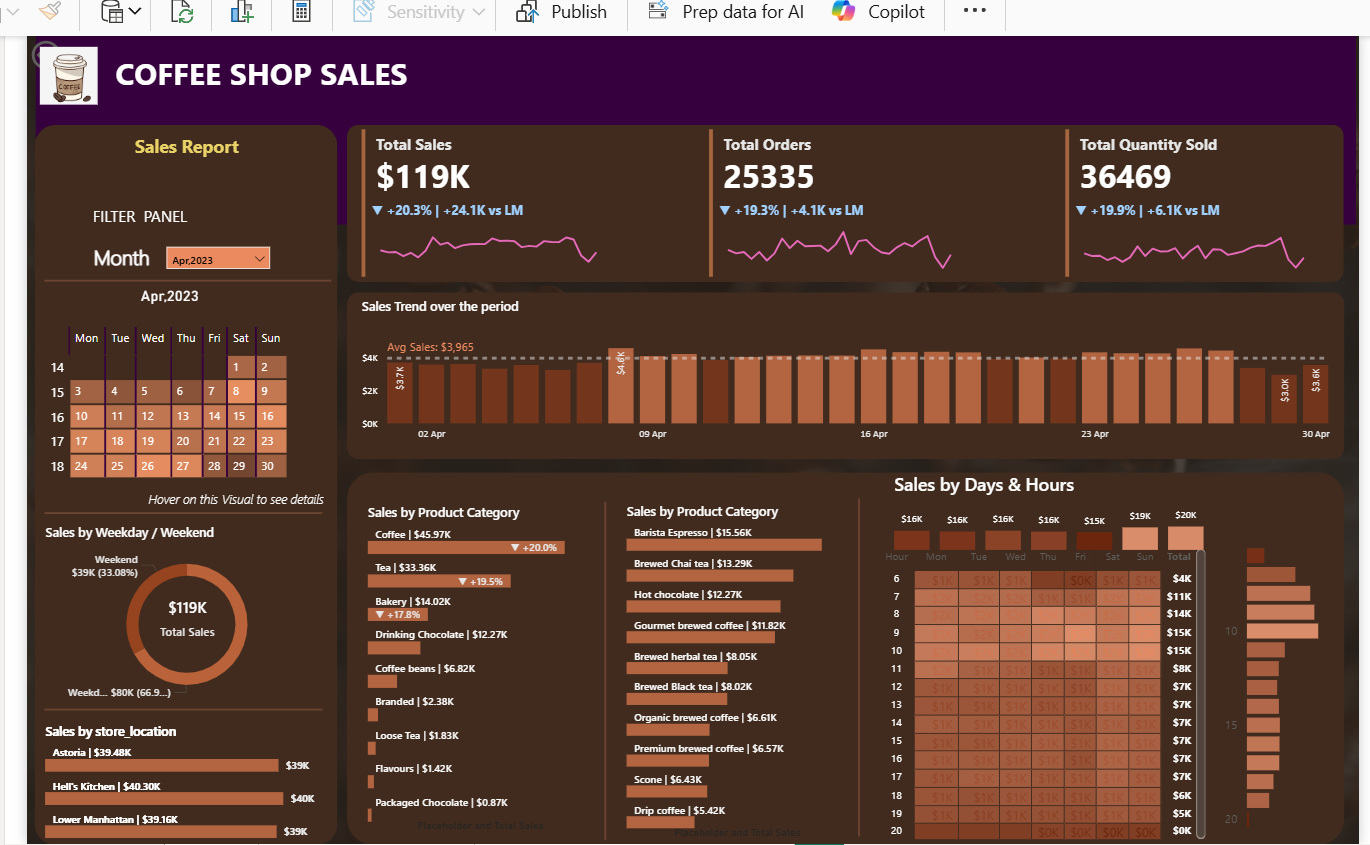

The page's visual inventory and layout, read from the dashboard file:
{"tool":"powerbi","page":{"name":"Page 1","canvas":[1400,850],"ordinal":0},"visuals":[{"type":"shape","box":[8.6,0,1388,198.3],"z":0},{"type":"cardVisual","fields":{"Data":["Transactions.Total Sales"]},"box":[346.7,93.3,266.7,165.3],"z":0,"group":"g1"},{"type":"cardVisual","fields":{"Data":["Transactions.Total Orders"]},"box":[712,93.3,274.4,165.3],"z":0,"group":"g2"},{"type":"cardVisual","fields":{"Data":["Transactions.Total Quantity Sold"]},"box":[1086.7,93.3,270.7,165.3],"z":0,"group":"g3"},{"type":"shape","box":[8,93.3,318.7,757.3],"z":1000},{"type":"lineChart","fields":{"Category":["Date Table.Date.Variation.Date Hierarchy.Year","Date Table.Date.Variation.Date Hierarchy.Quarter","Date Table.Date.Variation.Date Hierarchy.Month","Date Table.Date.Variation.Date Hierarchy.Day"],"Y":["Transactions.Total Sales"]},"box":[357.5,173.3,255.9,85.3],"z":1000,"group":"g1"},{"type":"lineChart","fields":{"Category":["Date Table.Date.Variation.Date Hierarchy.Year","Date Table.Date.Variation.Date Hierarchy.Quarter","Date Table.Date.Variation.Date Hierarchy.Month","Date Table.Date.Variation.Date Hierarchy.Day"],"Y":["Transactions.Total Orders"]},"box":[723.1,173.3,263.3,85.3],"z":1000,"group":"g2"},{"type":"lineChart","fields":{"Category":["Date Table.Date.Variation.Date Hierarchy.Year","Date Table.Date.Variation.Date Hierarchy.Quarter","Date Table.Date.Variation.Date Hierarchy.Month","Date Table.Date.Variation.Date Hierarchy.Day"],"Y":["Transactions.Total Quantity Sold"]},"box":[1097.7,173.3,259.7,85.3],"z":1000,"group":"g3"},{"type":"shape","box":[336,93.3,1048,165.3],"z":2000},{"type":"textbox","box":[87.8,12.2,345.9,58.1],"z":3000},{"type":"slicer","fields":{"Values":["Date Table.Month Year"]},"box":[141.9,216.2,118.9,33.8],"z":4000},{"type":"actionButton","box":[0,0,100,40],"z":5000},{"type":"group","id":"g1","title":"Group 1","box":[346.7,93.3,266.7,165.3],"z":6000},{"type":"group","id":"g2","title":"Group 1","box":[712,93.3,276,165.3],"z":7000},{"type":"group","id":"g3","title":"Group 1","box":[1086.7,93.3,270.7,165.3],"z":8000},{"type":"pivotTable","fields":{"Rows":["Date Table.Week Number"],"Columns":["Date Table.Day Name"],"Values":["Min(Date Table.Day Number)"]},"box":[14.2,300.5,306.2,189.4],"z":9000},{"type":"card","fields":{"Values":["Min(Date Table.Month Year)"]},"box":[99.7,259.2,101.1,31.3],"z":10000},{"type":"card","fields":{"Values":["Transactions.Foot Note"]},"box":[119.6,467.2,200.8,45.6],"z":11000},{"type":"shape","box":[336.5,458.1,1048.6,391.9],"z":11500},{"type":"shape","box":[18.5,489.9,292,22.8],"z":12000},{"type":"shape","box":[601.4,490.5,12.2,355.4],"z":13000},{"type":"donutChart","title":"Sales by Weekday / Weekend","fields":{"Category":["Date Table.Week Day / Weekend"],"Y":["Transactions.Total Sales"]},"box":[14.3,513,307.8,194.8],"z":14000},{"type":"card","fields":{"Values":["Transactions.Total Sales"]},"box":[110.4,581.8,116.9,57.1],"z":15000},{"type":"shape","box":[18.2,696.1,292.2,23.4],"z":16000},{"type":"clusteredBarChart","title":"Sales by store_location","fields":{"Category":["Transactions.store_location"],"Y":["Transactions.Placeholder","Transactions.Total Sales"]},"box":[14.3,722.1,294.8,128.6],"z":17000},{"type":"shape","box":[336.5,268.9,1048.6,175.7],"z":18000},{"type":"columnChart","title":"Sales Trend over the period","fields":{"Category":["Transactions.transaction_date"],"Y":["Transactions.Total Sales"]},"box":[347.3,274.3,1028.4,160.8],"z":19000},{"type":"clusteredBarChart","title":"Sales by store_location","fields":{"Category":["Transactions.store_location"],"Y":["Transactions.Placeholder","Transactions.Total Sales"]},"box":[14.3,721.4,294.8,128.6],"z":20000},{"type":"clusteredBarChart","title":"Sales by Product Category","fields":{"Y":["Transactions.Placeholder","Transactions.Total Sales"],"Category":["Transactions.product_category"]},"box":[354.1,491.9,247.3,350],"z":22000},{"type":"shape","box":[18.9,245.9,301.4,23],"z":22001},{"type":"clusteredBarChart","title":"Sales by Product Category","fields":{"Y":["Transactions.Placeholder","Transactions.Total Sales"],"Category":["Transactions.product_type"]},"box":[625.7,490.5,243.2,358.1],"z":22002},{"type":"shape","box":[868.9,486.5,12.2,355.4],"z":22003},{"type":"pivotTable","fields":{"Rows":["Transactions.Hour"],"Columns":["Date Table.Day Name"],"Values":["Transactions.Total Sales"]},"box":[890.5,535.1,352.7,314.9],"z":22004},{"type":"barChart","fields":{"Category":["Transactions.Hour"],"Y":["Transactions.Total Sales"]},"box":[1254.1,525.7,131.1,318.9],"z":22005},{"type":"columnChart","title":"Sales by Days & Hours","fields":{"Y":["Transactions.Total Sales"],"Category":["Date Table.Day Name"]},"box":[906.8,458.1,336.5,87.8],"z":22006},{"type":"textbox","box":[37.8,213.5,123,40.5],"z":22007},{"type":"textbox","box":[79.7,98.6,170.3,39.2],"z":22008},{"type":"textbox","box":[50,173,137.8,40.5],"z":22009},{"type":"image","box":[8.1,6.8,71.6,70.3],"z":22010}]}

Visuals, with their boxes on the page's 1400x850 design canvas (x1, y1, x2, y2). These are canvas units, not pixel positions in the 1370x845 screenshot, which may show the page scaled, cropped or inside an application window:
shape: (left=9, top=0, right=1397, bottom=198)
cardVisual - Transactions.Total Sales: (left=347, top=93, right=613, bottom=259)
cardVisual - Transactions.Total Orders: (left=712, top=93, right=986, bottom=259)
cardVisual - Transactions.Total Quantity Sold: (left=1087, top=93, right=1357, bottom=259)
shape: (left=8, top=93, right=327, bottom=851)
lineChart - Date Table.Date.Variation.Date Hierarchy.Year x Date Table.Date.Variation.Date Hierarchy.Quarter: (left=358, top=173, right=613, bottom=259)
lineChart - Date Table.Date.Variation.Date Hierarchy.Year x Date Table.Date.Variation.Date Hierarchy.Quarter: (left=723, top=173, right=986, bottom=259)
lineChart - Date Table.Date.Variation.Date Hierarchy.Year x Date Table.Date.Variation.Date Hierarchy.Quarter: (left=1098, top=173, right=1357, bottom=259)
shape: (left=336, top=93, right=1384, bottom=259)
textbox: (left=88, top=12, right=434, bottom=70)
slicer - Date Table.Month Year: (left=142, top=216, right=261, bottom=250)
actionButton: (left=0, top=0, right=100, bottom=40)
"Group 1" group: (left=347, top=93, right=613, bottom=259)
"Group 1" group: (left=712, top=93, right=988, bottom=259)
"Group 1" group: (left=1087, top=93, right=1357, bottom=259)
pivotTable - Date Table.Week Number x Date Table.Day Name: (left=14, top=300, right=320, bottom=490)
card - Min(Date Table.Month Year): (left=100, top=259, right=201, bottom=290)
card - Transactions.Foot Note: (left=120, top=467, right=320, bottom=513)
shape: (left=336, top=458, right=1385, bottom=850)
shape: (left=18, top=490, right=310, bottom=513)
shape: (left=601, top=490, right=614, bottom=846)
"Sales by Weekday / Weekend" donutChart: (left=14, top=513, right=322, bottom=708)
card - Transactions.Total Sales: (left=110, top=582, right=227, bottom=639)
shape: (left=18, top=696, right=310, bottom=720)
"Sales by store_location" clusteredBarChart: (left=14, top=722, right=309, bottom=851)
shape: (left=336, top=269, right=1385, bottom=445)
"Sales Trend over the period" columnChart: (left=347, top=274, right=1376, bottom=435)
"Sales by store_location" clusteredBarChart: (left=14, top=721, right=309, bottom=850)
"Sales by Product Category" clusteredBarChart: (left=354, top=492, right=601, bottom=842)
shape: (left=19, top=246, right=320, bottom=269)
"Sales by Product Category" clusteredBarChart: (left=626, top=490, right=869, bottom=849)
shape: (left=869, top=486, right=881, bottom=842)
pivotTable - Transactions.Hour x Date Table.Day Name: (left=890, top=535, right=1243, bottom=850)
barChart - Transactions.Hour x Transactions.Total Sales: (left=1254, top=526, right=1385, bottom=845)
"Sales by Days & Hours" columnChart: (left=907, top=458, right=1243, bottom=546)
textbox: (left=38, top=214, right=161, bottom=254)
textbox: (left=80, top=99, right=250, bottom=138)
textbox: (left=50, top=173, right=188, bottom=214)
image: (left=8, top=7, right=80, bottom=77)
